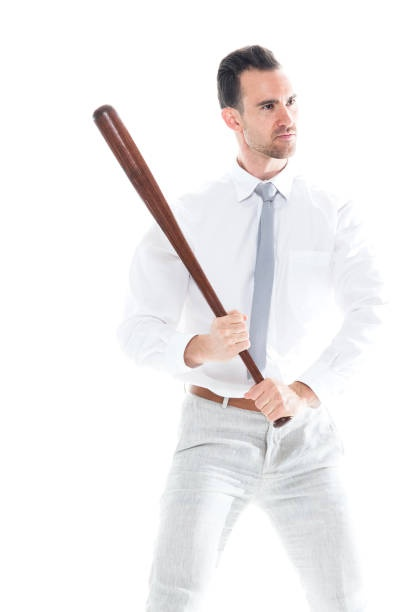bita: (93, 107, 280, 421)
